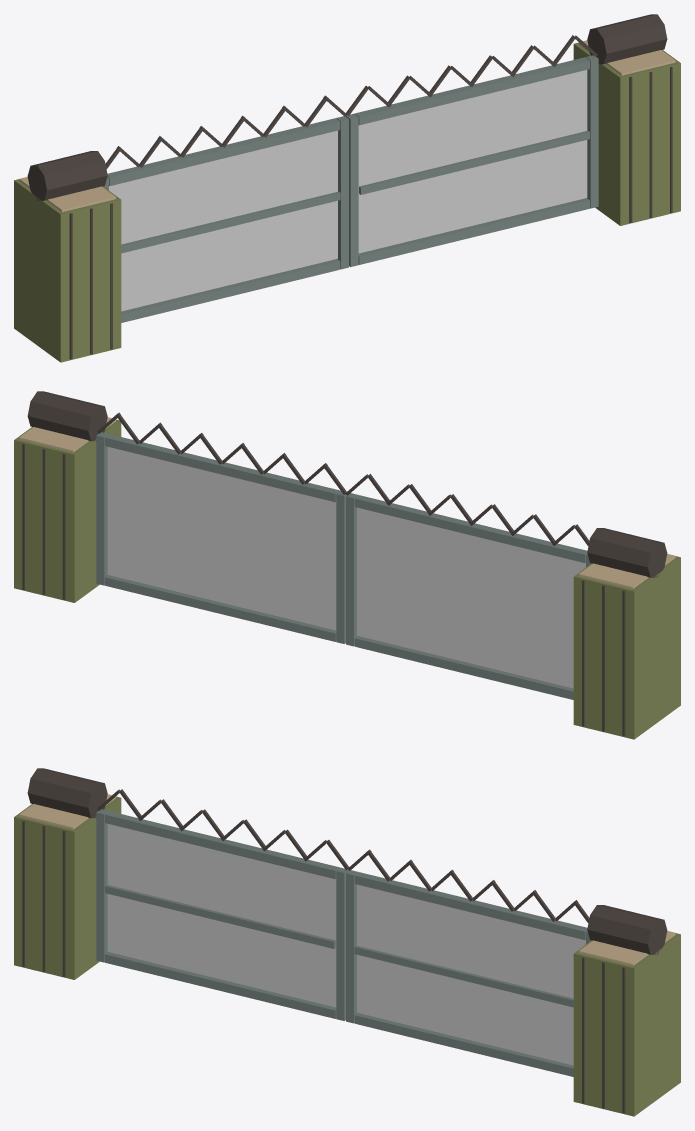
File: SM_PuertaViaDoble_v3_MallaEspino_e0_Sano_LOD0.fbx
3 renders of one model, top to bottom at view 1: azimuth 30°, elevation 25°; view 2: azimuth 150°, elevation 25°; view 3: azimuth 330°, elevation 25°, orthographic.
Visible parts, largest first — view 1: Hoja_E, Hoja_O, SM_puerta_via_doble_v12_LOD0; view 2: Hoja_E, Hoja_O, SM_puerta_via_doble_v12_LOD0; view 3: Hoja_O, Hoja_E, SM_puerta_via_doble_v12_LOD0.
Part boxes in pixels (box(x1,y1,x2,y2)): Hoja_E: box(346, 35, 598, 266); Hoja_O: box(103, 95, 348, 322); SM_puerta_via_doble_v12_LOD0: box(14, 14, 680, 362); Hoja_E: box(96, 412, 346, 643); Hoja_O: box(345, 474, 591, 699); SM_puerta_via_doble_v12_LOD0: box(14, 391, 680, 739); Hoja_O: box(96, 789, 348, 1020); Hoja_E: box(346, 849, 591, 1076); SM_puerta_via_doble_v12_LOD0: box(14, 768, 680, 1116).
Bounding box in the file's own units: 9.2 × 2.55 × 1.24.
